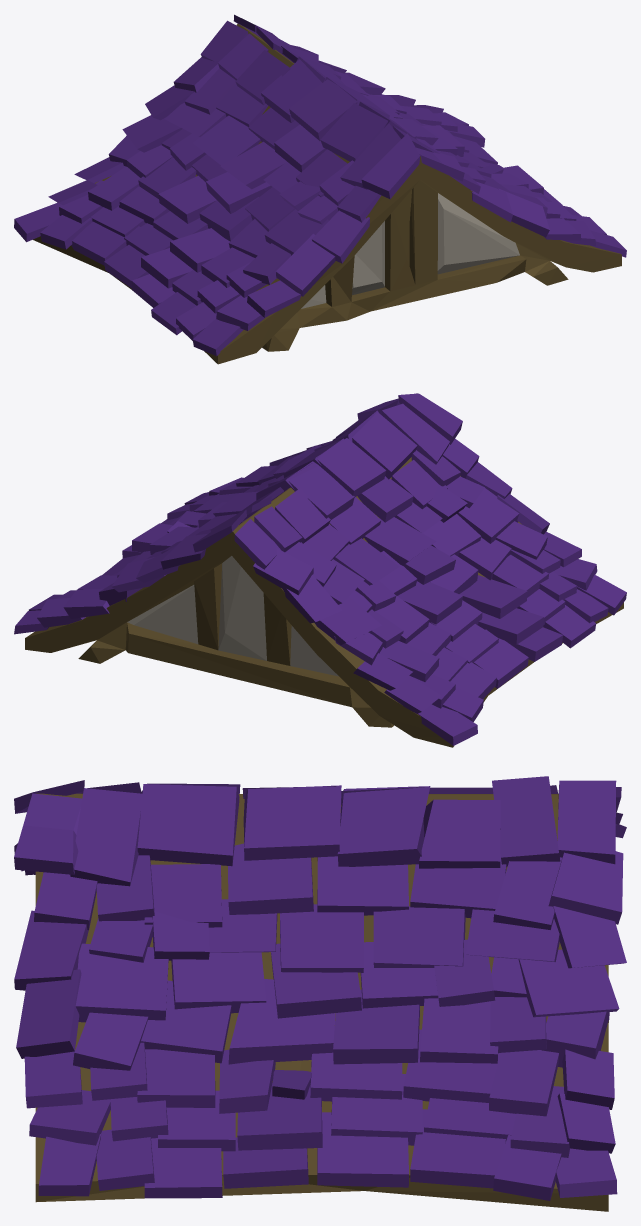
File: BuildingRoof.fbx
The picture shows the model from 3 angles, top to bottom: view 1: azimuth 30°, elevation 25°; view 2: azimuth 150°, elevation 25°; view 3: azimuth 270°, elevation 25°; orthographic projection. The views are drawn at different scales.
Visible parts, largest first — view 1: Cube.001, Roof; view 2: Cube.001, Roof; view 3: Cube.001, Roof.
Boxes of the visible parts, x1=… form: Cube.001: x1=14, y1=14, x2=626, y2=356; Roof: x1=33, y1=23, x2=621, y2=364; Cube.001: x1=14, y1=393, x2=626, y2=745; Roof: x1=25, y1=457, x2=623, y2=747; Cube.001: x1=14, y1=776, x2=626, y2=1200; Roof: x1=35, y1=793, x2=608, y2=1211.
Bounding box in the file's own units: 25.72 × 9.84 × 19.5.
